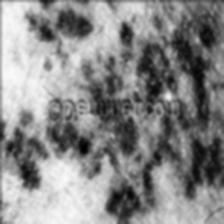Potentially Malignant Skin Tumors: (100, 186, 139, 224), (76, 132, 94, 164)
